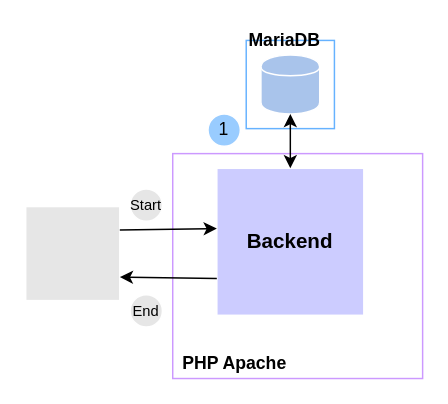
This 448x404 diagram has some shape labels left out. Here are the shapes that lost their labels. From the top down, the centre of each, then its label:
At (289,84): "DB".
At (72,253): "Client".
